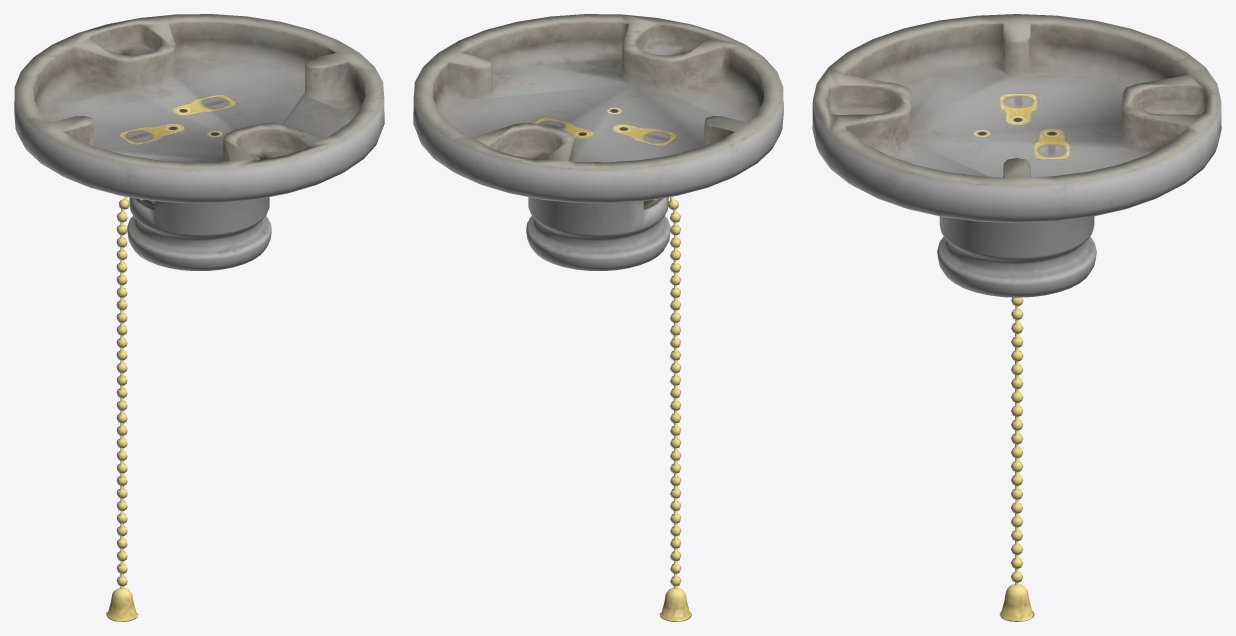
File: pull_chain_light_socket.glb
The picture shows the model from 3 angles, left to right: view 1: azimuth 30°, elevation 25°; view 2: azimuth 150°, elevation 25°; view 3: azimuth 270°, elevation 25°; orthographic projection. The views are drawn at different scales.
Visible parts, largest first — view 1: pull_chain_light_socket, pull_chain_light_socket_chain; view 2: pull_chain_light_socket, pull_chain_light_socket_chain; view 3: pull_chain_light_socket, pull_chain_light_socket_chain.
Boxes of the visible parts, x1=… form: pull_chain_light_socket: x1=14, y1=14, x2=384, y2=270; pull_chain_light_socket_chain: x1=106, y1=196, x2=138, y2=621; pull_chain_light_socket: x1=413, y1=14, x2=783, y2=270; pull_chain_light_socket_chain: x1=659, y1=196, x2=691, y2=621; pull_chain_light_socket: x1=812, y1=14, x2=1221, y2=297; pull_chain_light_socket_chain: x1=999, y1=297, x2=1034, y2=621.
Size of the model in its own units: 0.1103 by 0.1653 by 0.1103.
1 material, 1 textured.
